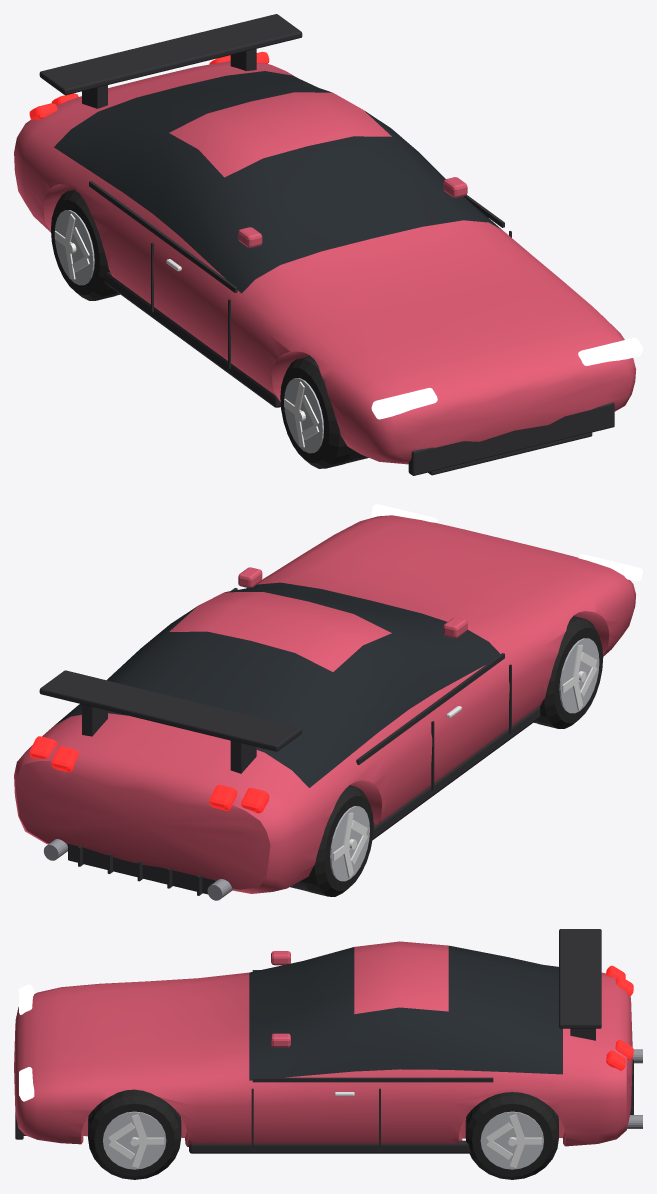
The model's file is supra.glb.
The picture shows the model from 3 angles, top to bottom: view 1: azimuth 30°, elevation 25°; view 2: azimuth 150°, elevation 25°; view 3: azimuth 270°, elevation 25°; orthographic projection. The views are drawn at different scales.
Parts seen in each view (by area): view 1: body, wing_blade, wheel_fr, intake, wheel_rr, head_f, sill, belt_trim, mirror, splitter; view 2: body, wing_blade, wheel_rr, wheel_fr, sill, diffuser, belt_trim, head_f, tail_i, tail_o, mirror, wing_post_r (+1 smaller); view 3: body, wheel_fl, wheel_rl, wing_blade, sill, belt_trim, head_f, mirror, tail_o, tail_i.
Part boxes in pixels (x1,y1,x2,y2): body: (14,61,636,464); wing_blade: (39,14,302,95); wheel_fr: (280,356,355,468); intake: (408,402,614,475); wheel_rr: (51,189,116,300); head_f: (371,337,642,419); sill: (104,272,280,407); belt_trim: (89,181,504,292); mirror: (238,177,467,247); splitter: (428,432,592,475); body: (14,515,635,893); wing_blade: (39,670,302,751); wheel_rr: (300,785,373,896); wheel_fr: (537,616,603,728); sill: (372,706,540,840); diffuser: (68,843,215,894); belt_trim: (231,588,504,764); head_f: (371,504,642,581); tail_i: (51,746,237,810); tail_o: (29,736,269,813); mirror: (238,567,467,638); wing_post_r: (230,740,256,773); body: (14,941,632,1146); wheel_fl: (88,1089,181,1179); wheel_rl: (465,1092,558,1179); wing_blade: (559,929,601,1028); sill: (189,1140,471,1153); belt_trim: (252,970,493,1082); head_f: (19,984,34,1101); mirror: (271,951,290,1047); tail_o: (606,965,625,1070); tail_i: (615,976,633,1060).
Size of the model in its own units: 1.91 by 1.27 by 4.45.
